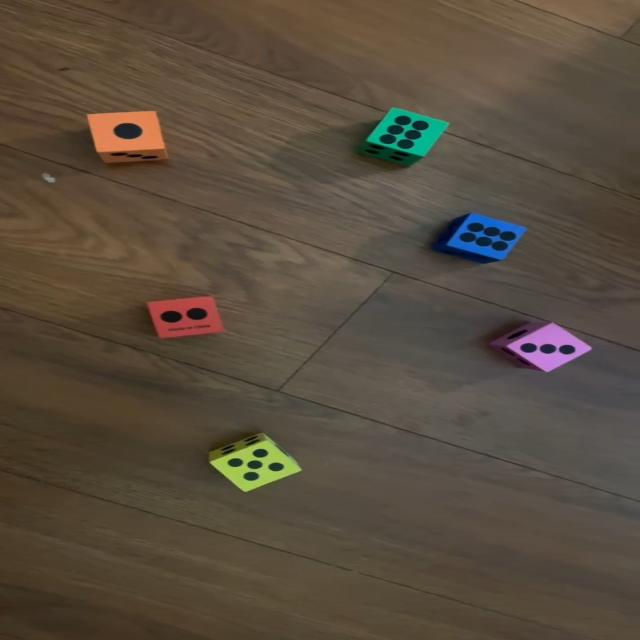blue_block: (428, 212, 528, 264)
red_block: (143, 294, 227, 341)
